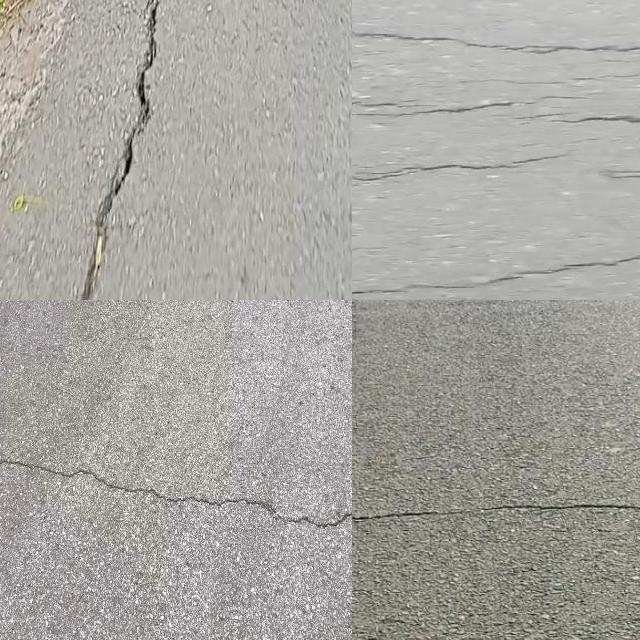Melintang: (0, 452, 352, 538), (352, 247, 640, 300), (352, 15, 640, 62), (352, 492, 640, 537), (352, 141, 573, 191), (521, 103, 640, 133)
Memanjang: (59, 0, 176, 300)
